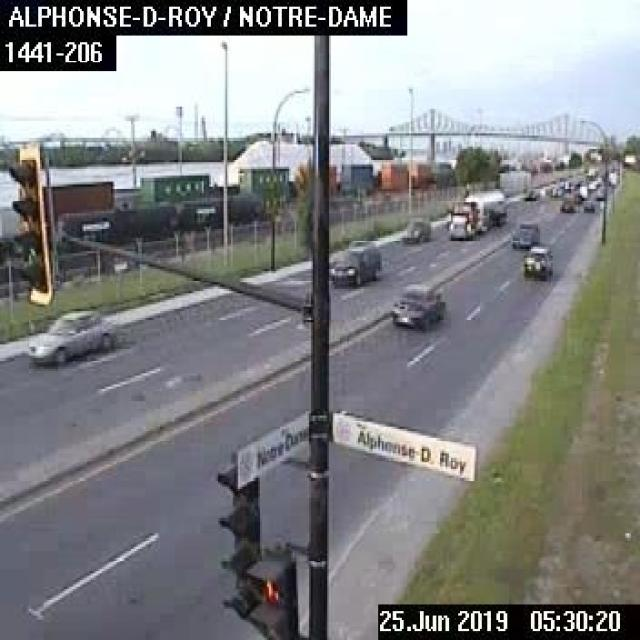vehicle: (25, 306, 113, 366), (446, 186, 508, 238), (389, 280, 444, 329), (327, 242, 380, 284), (522, 241, 552, 278), (509, 217, 541, 249), (400, 218, 429, 242), (558, 190, 576, 213), (583, 195, 596, 214)
